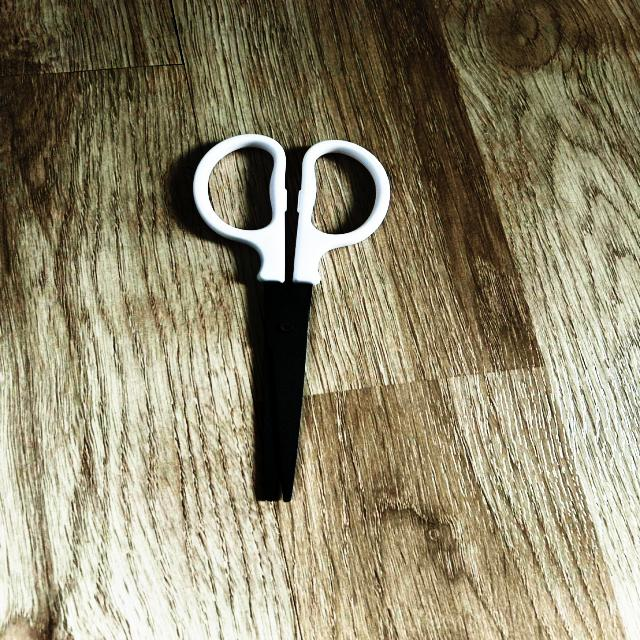Scissors: (193, 134, 390, 501)
